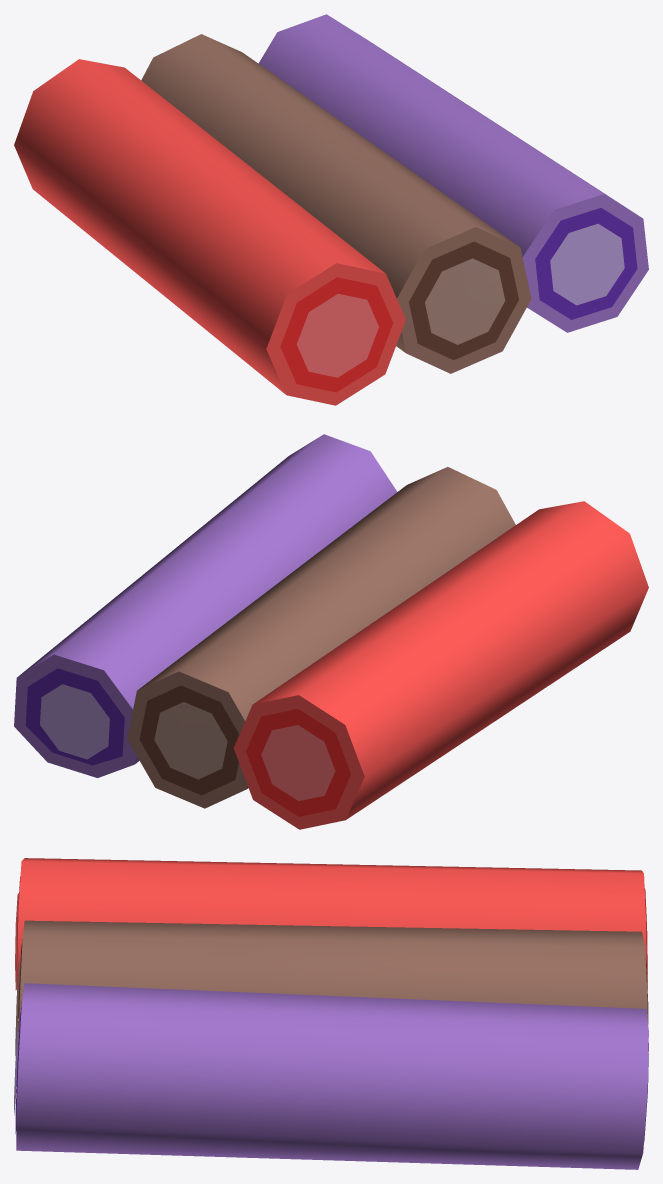
The model's file is bathroom_item_013.glb.
The picture shows the model from 3 angles, top to bottom: view 1: azimuth 30°, elevation 25°; view 2: azimuth 150°, elevation 25°; view 3: azimuth 270°, elevation 25°; orthographic projection. The views are drawn at different scales.
Parts seen in each view (by area): view 1: bathroom_item_013; view 2: bathroom_item_013; view 3: bathroom_item_013.
Part boxes in pixels (x1,y1,x2,y2): bathroom_item_013: (14, 14, 648, 405); bathroom_item_013: (14, 434, 648, 829); bathroom_item_013: (14, 858, 648, 1169).
Bounding box in the file's own units: 0.3039 × 0.1123 × 0.3896.
1 material, 1 textured.
